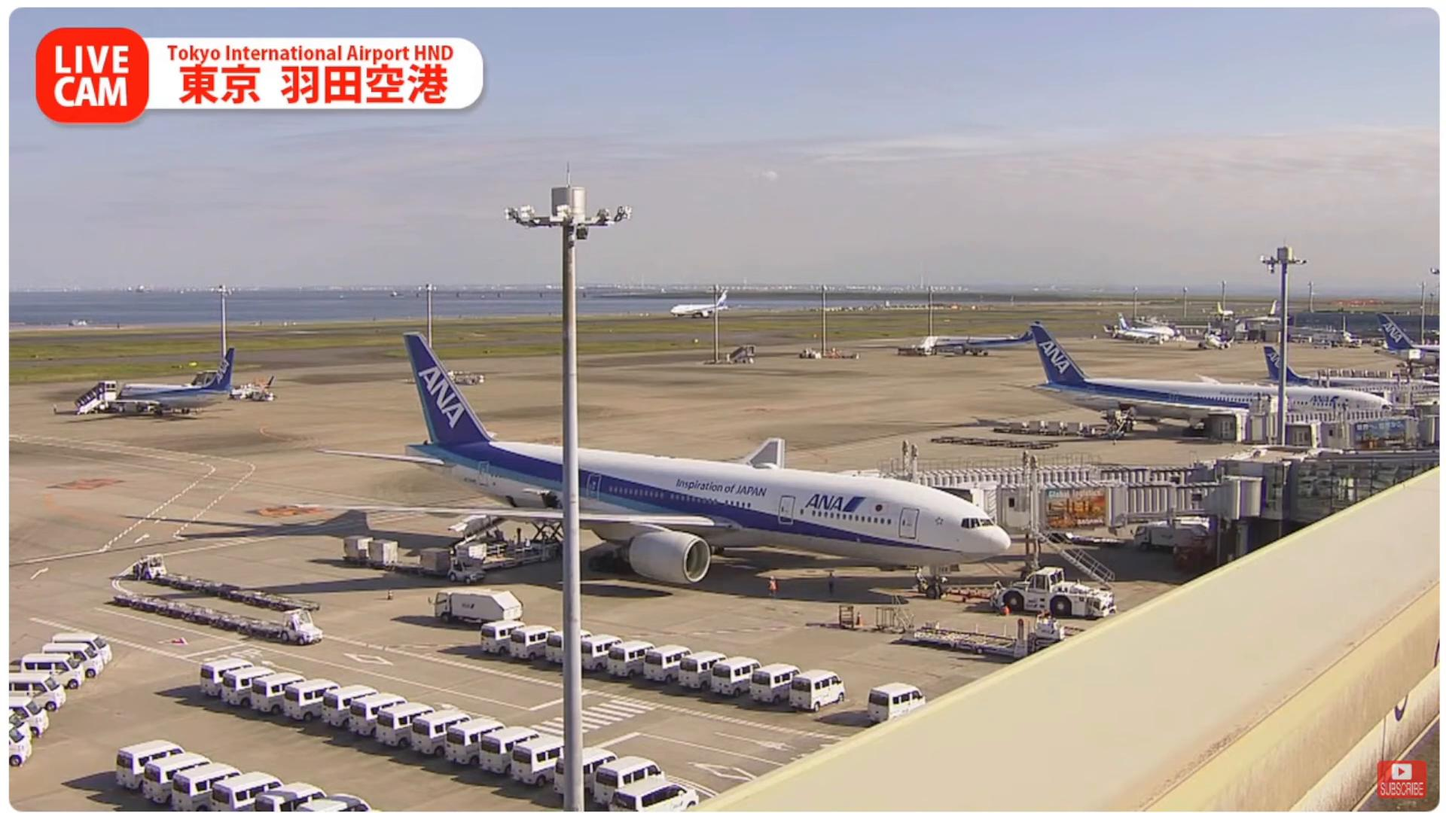APS: (992, 567, 1125, 625)
Aerobridge: (956, 480, 1243, 535), (885, 461, 1213, 481)
Airplane: (290, 330, 1014, 584)
Baggage truck: (427, 585, 524, 628)
Dolly: (122, 593, 287, 638), (149, 575, 317, 616), (339, 550, 457, 581)
JCPL: (908, 614, 1089, 661), (451, 524, 556, 576)
Skyloader: (442, 508, 522, 550)
Tractor: (277, 606, 326, 649), (448, 548, 489, 587), (138, 553, 164, 582)
Window: (1270, 448, 1442, 536)
